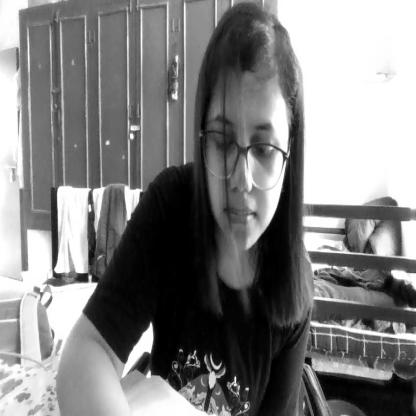Normal: (194, 5, 290, 250)
